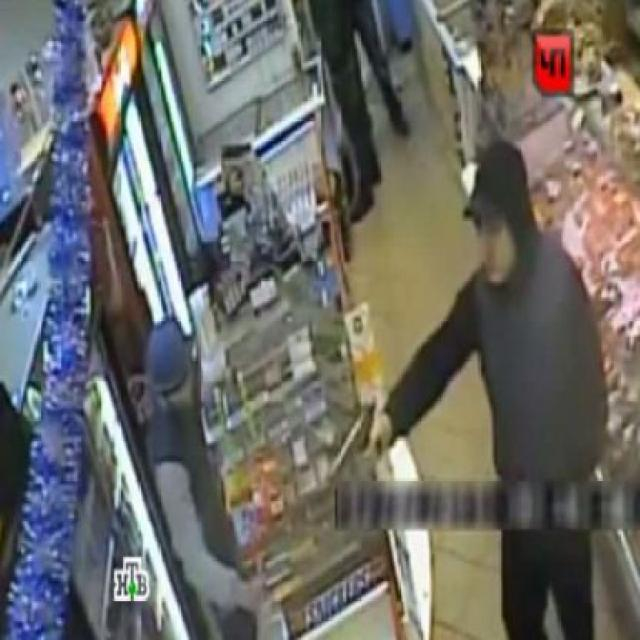weapon: (316, 404, 398, 484)
